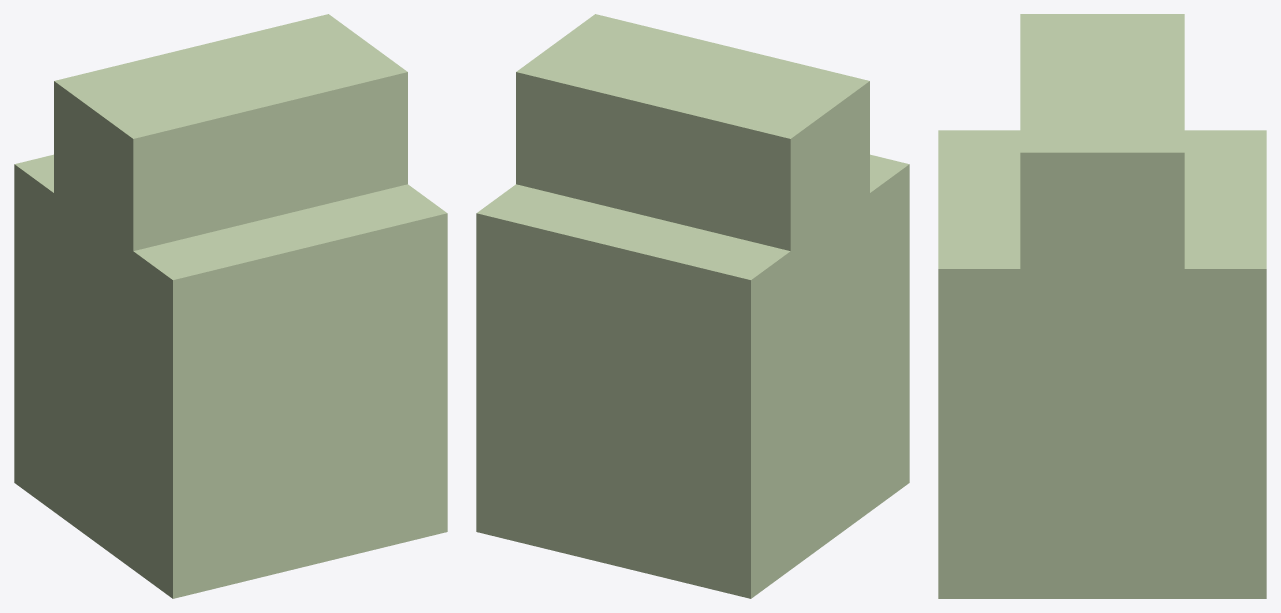
File: machine11_lo.obj
3 renders of one model, left to right at view 1: azimuth 30°, elevation 25°; view 2: azimuth 150°, elevation 25°; view 3: azimuth 270°, elevation 25°, orthographic. The views are drawn at different scales.
Size of the model in its own units: 32 by 48 by 32.
